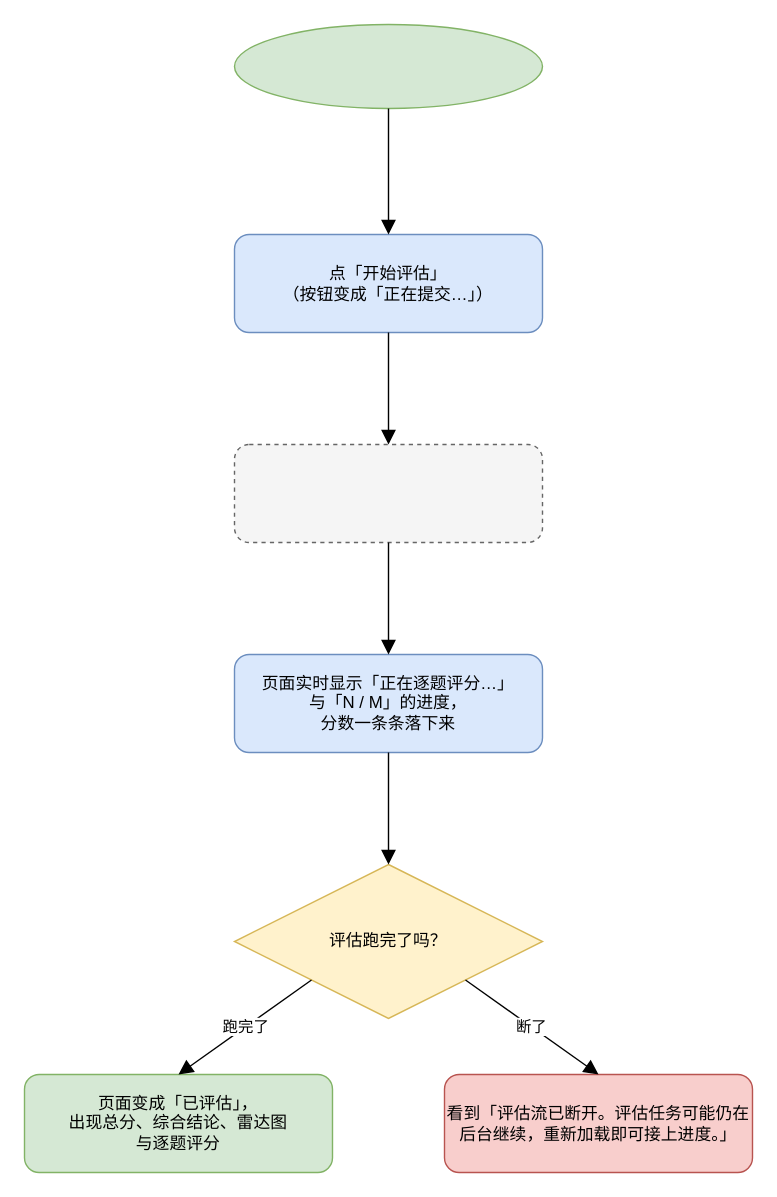
The diagram is 777 pixels wide and 1197 high, and some of its shapes have lost their labels. Here are the shapes that lost their labels. From the top down, the centre of each, then its label:
the point at 387,65: 打开一场「已完成」的面试， 进到评估这一页
the point at 387,492: 页面上可能提示 「本场有 N 道题没有记录回答， 评估时按 0 分计入。」
